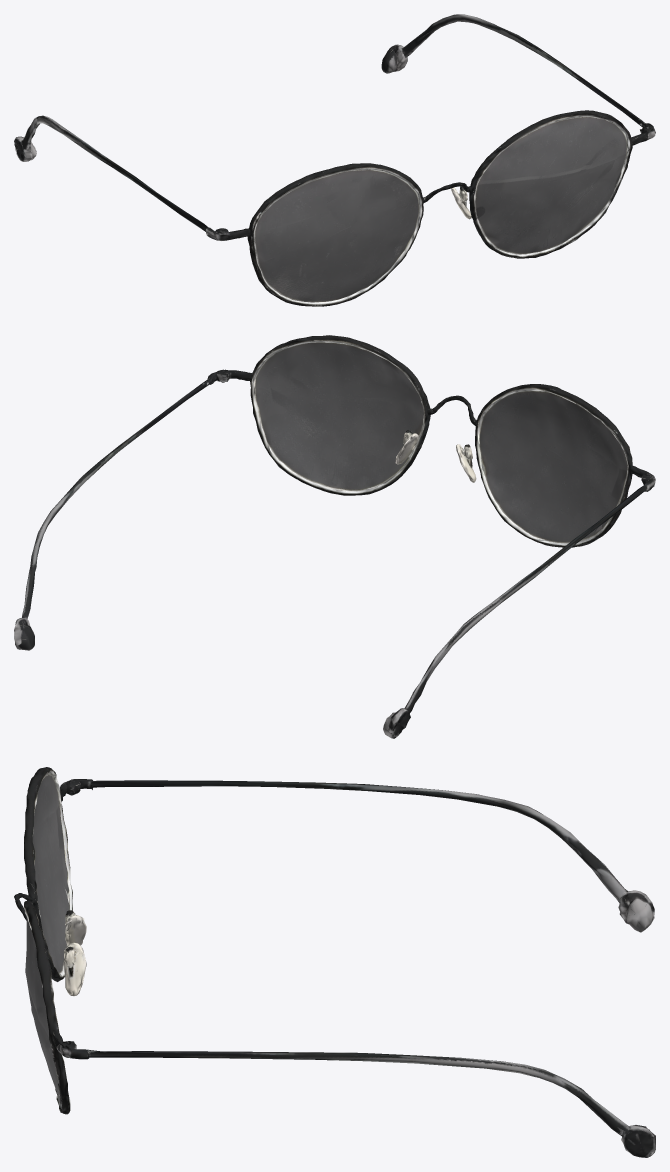
Rendered from round_frame_separated.glb.
The picture shows the model from 3 angles, top to bottom: view 1: azimuth 30°, elevation 25°; view 2: azimuth 150°, elevation 25°; view 3: azimuth 270°, elevation 25°; orthographic projection. The views are drawn at different scales.
Visible parts, largest first — view 1: frame_front, temple_right, temple_left; view 2: frame_front, temple_left, temple_right; view 3: frame_front, temple_right, temple_left.
Part boxes in pixels (box(x1,y1,x2,y2)): frame_front: box(247, 110, 632, 306); temple_right: box(381, 14, 655, 145); temple_left: box(14, 115, 250, 240); frame_front: box(250, 335, 632, 547); temple_left: box(383, 465, 655, 738); temple_right: box(14, 369, 252, 650); frame_front: box(14, 767, 86, 1114); temple_right: box(52, 1029, 655, 1157); temple_left: box(60, 779, 654, 932).
Bounding box in the file's own units: 0.1853 × 0.0615 × 0.1853.
Materials: 1 (1 with a texture image).
